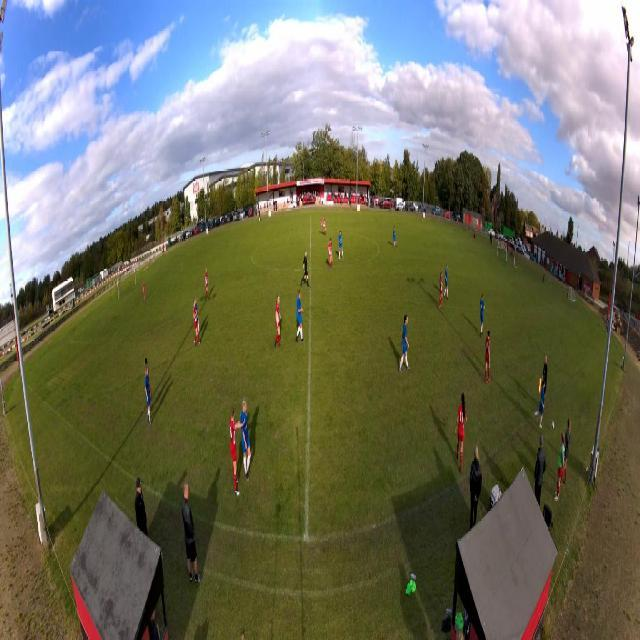player: (229, 404, 246, 498), (240, 396, 253, 483), (455, 391, 468, 475), (398, 313, 411, 374), (295, 288, 305, 345), (273, 293, 282, 350), (300, 248, 312, 290), (145, 364, 153, 426), (192, 299, 201, 349), (484, 328, 491, 386), (144, 357, 153, 401), (480, 292, 486, 339), (438, 270, 444, 310), (195, 295, 201, 335), (443, 263, 449, 301), (338, 229, 345, 261), (204, 266, 210, 301), (328, 237, 334, 271), (393, 225, 398, 249), (322, 215, 327, 236), (142, 279, 146, 303), (505, 248, 508, 266)
